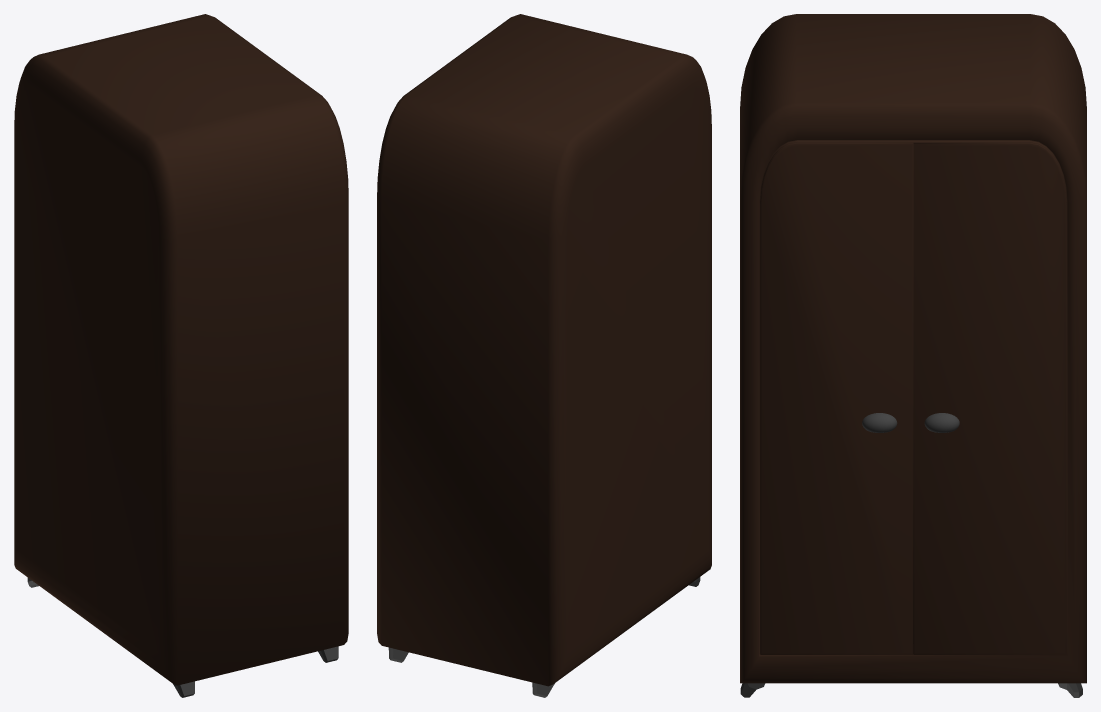
File: kinderKast.fbx
The picture shows the model from 3 angles, left to right: view 1: azimuth 30°, elevation 25°; view 2: azimuth 150°, elevation 25°; view 3: azimuth 270°, elevation 25°; orthographic projection. The views are drawn at different scales.
Parts seen in each view (by area): view 1: Cube, Cube.001; view 2: Cube, Cube.001; view 3: Cube, Sphere.001.
Part boxes in pixels (box(x1,y1,x2,y2)): Cube: box(14, 14, 348, 685); Cube.001: box(27, 577, 338, 697); Cube: box(377, 14, 711, 686); Cube.001: box(388, 577, 700, 697); Cube: box(740, 14, 1086, 683); Sphere.001: box(862, 413, 959, 432).
Bounding box in the file's own units: 566 × 1498 × 787.
